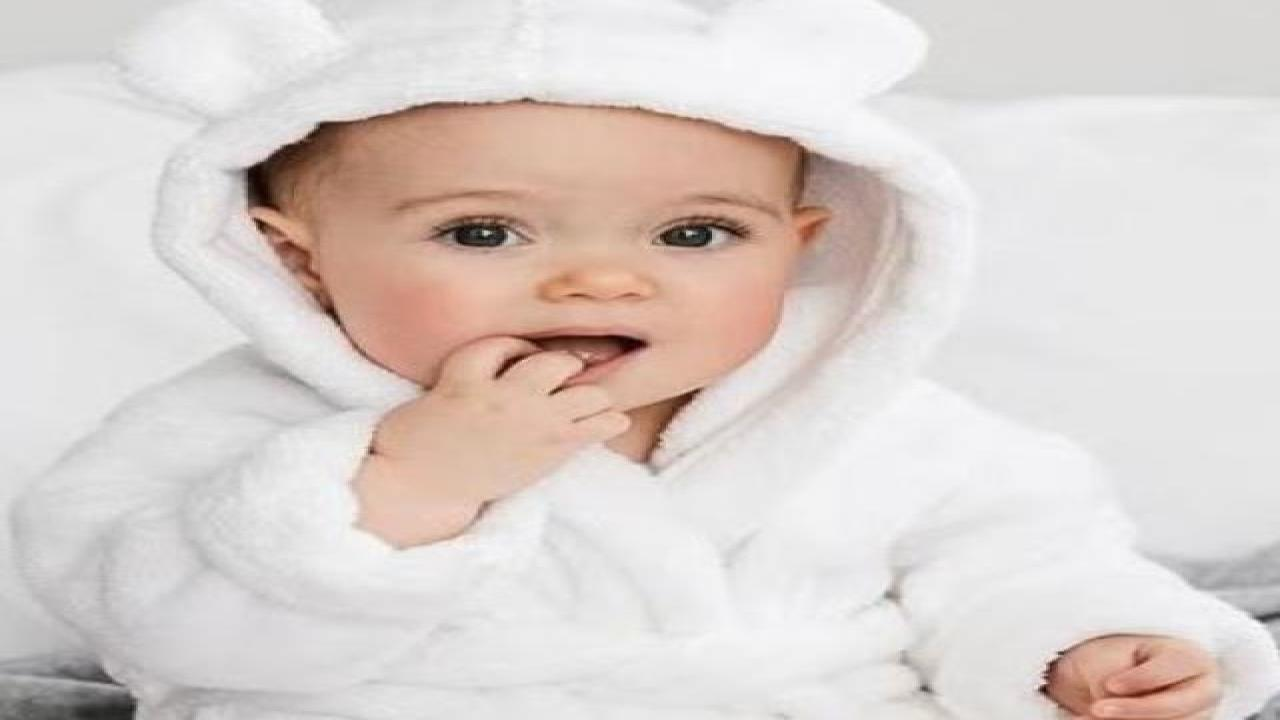hand: (358, 335, 634, 511), (1043, 631, 1228, 720)
